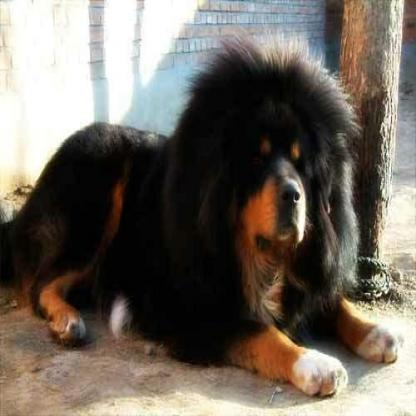Tibetan_mastiff: (0, 25, 406, 399)
